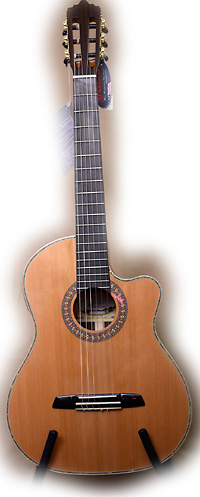guitar: (4, 1, 195, 479)
